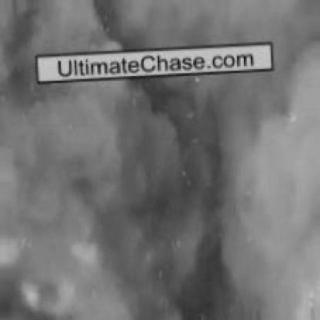Smoke: (17, 10, 309, 304)
